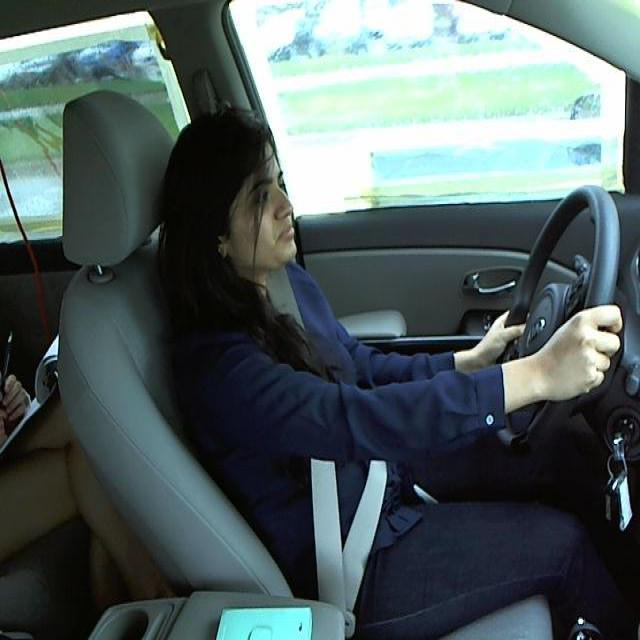seatbelt: (283, 280, 386, 604)
